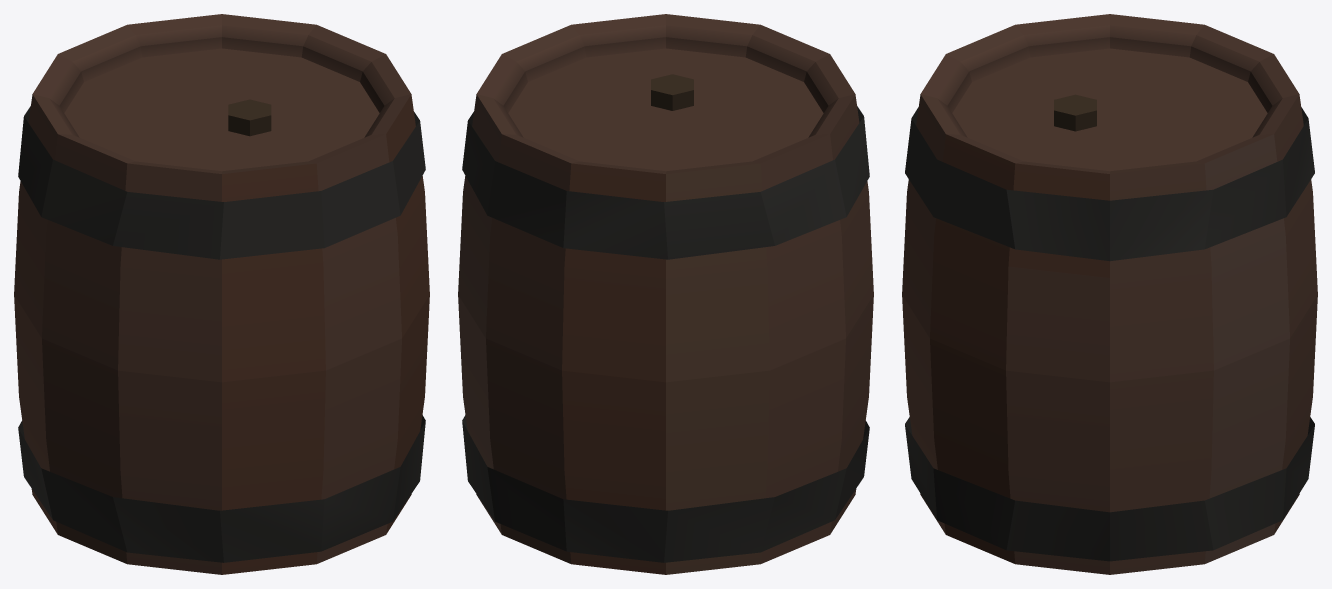
File: Barrel_vert_color.fbx
3 renders of one model, left to right at view 1: azimuth 30°, elevation 25°; view 2: azimuth 150°, elevation 25°; view 3: azimuth 270°, elevation 25°, orthographic.
Visible parts, largest first — view 1: barrel; view 2: barrel; view 3: barrel.
Part boxes in pixels (x1,y1,x2,y2): barrel: [14, 14, 429, 574]; barrel: [458, 14, 873, 574]; barrel: [902, 14, 1317, 574].
Bounding box in the file's own units: 0.9913 × 1.05 × 0.9881.
